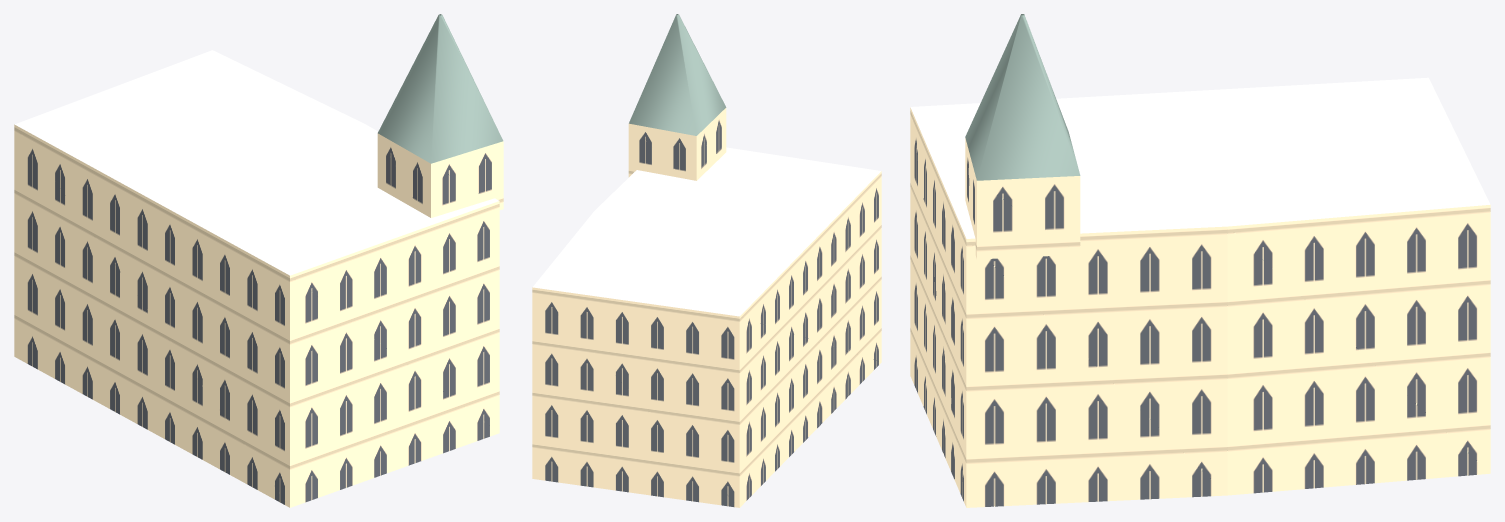
Rendered from landmark-mukhtarov-palace.glb.
3 views of the same model, side by side, from view 1: azimuth 30°, elevation 25°; view 2: azimuth 150°, elevation 25°; view 3: azimuth 270°, elevation 25° (orthographic). The views are drawn at different scales.
Parts seen in each view (by area): view 1: mukhtarov-palace; view 2: mukhtarov-palace; view 3: mukhtarov-palace.
Boxes of the visible parts, x1,y1,x2,y2 form: mukhtarov-palace: (14, 14, 503, 507); mukhtarov-palace: (532, 14, 881, 507); mukhtarov-palace: (910, 14, 1490, 507).
Bounding box in the file's own units: 22.62 × 30.08 × 33.4.
3 materials, 1 textured.
